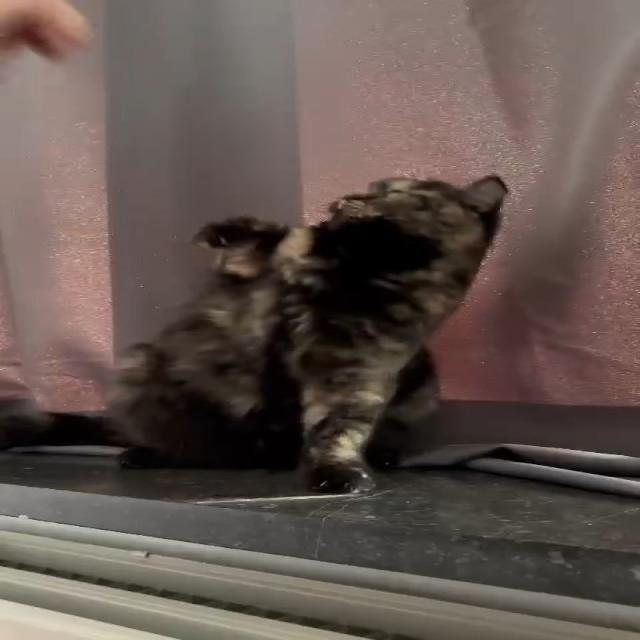authorized: (102, 172, 510, 494)
